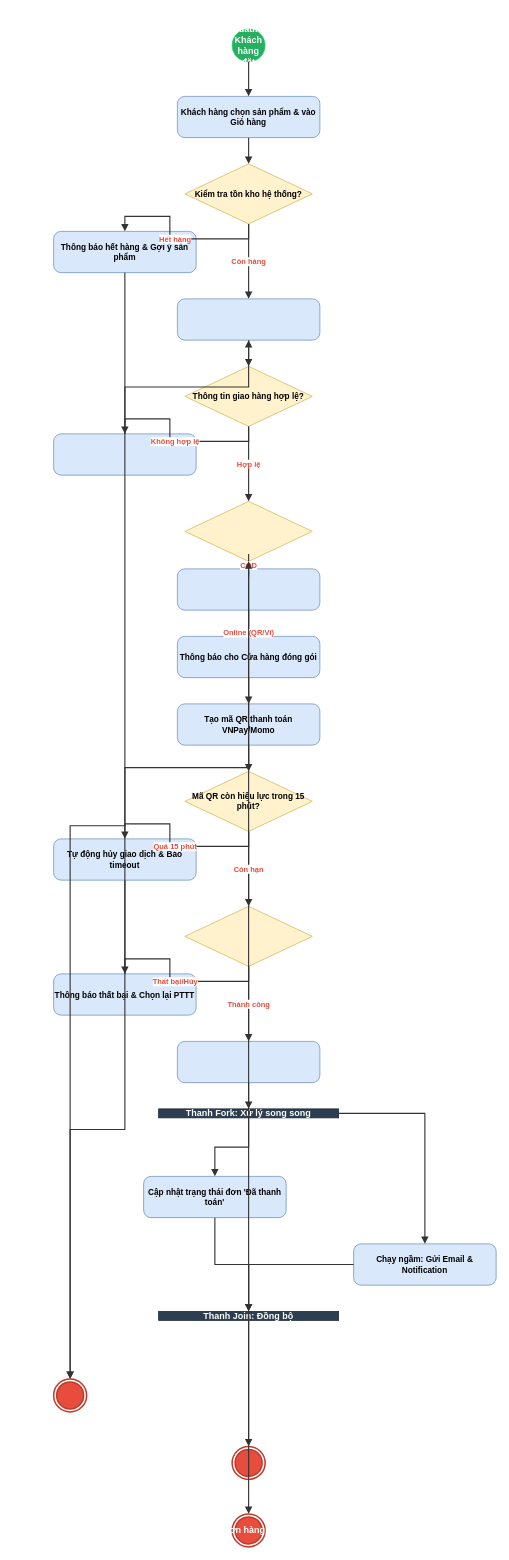
This 509x1560 diagram has some shape labels left out. The box of each missing label's shape, as (x1, y1, x2, y2) in pixels:
Báo lỗi thông tin & Yêu cầu nhập lại: (53, 433, 196, 475)
Chọn phương thức thanh toán?: (184, 501, 312, 561)
Hệ thống khóa kho & trừ tồn kho: (177, 1041, 320, 1083)
Khách nhập thông tin giao hàng & PTTT: (177, 298, 320, 340)
Kết thúc luồng đặt COD: (231, 1445, 266, 1480)
Kết thúc: Đặt hàng thất bại: (52, 1378, 87, 1412)
Tạo đơn hàng trạng thái 'Chờ xác nhận': (177, 568, 320, 610)
Xác nhận từ Gateway thành công?: (184, 906, 312, 966)
